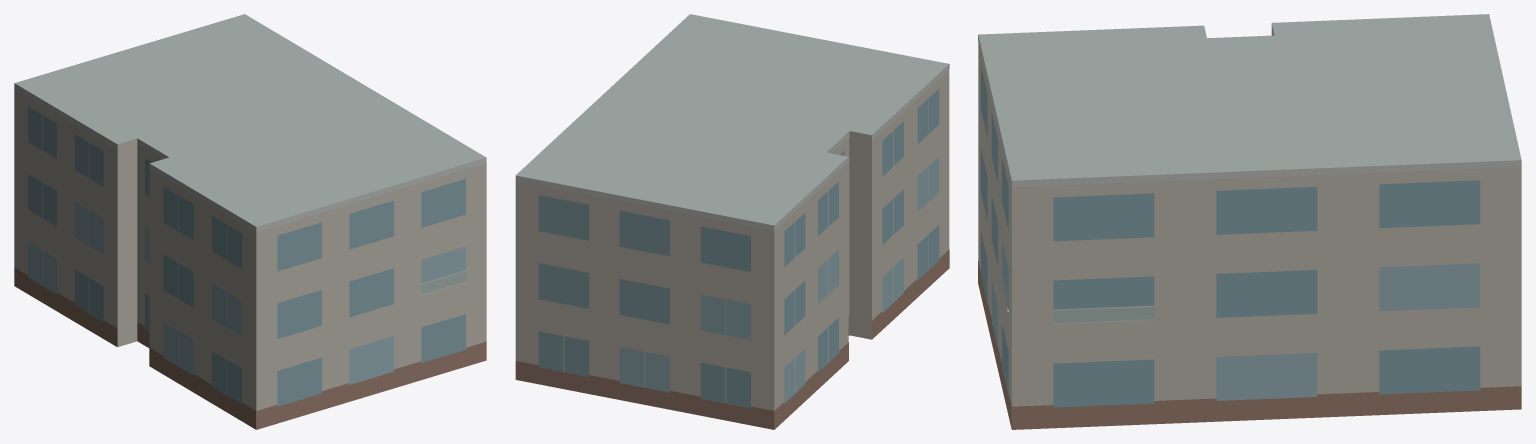
The model's file is survey-upis-33039797.glb.
3 renders of one model, left to right at view 1: azimuth 30°, elevation 25°; view 2: azimuth 150°, elevation 25°; view 3: azimuth 270°, elevation 25°, orthographic. The views are drawn at different scales.
Parts seen in each view (by area): view 1: survey-upis-33039797.tmp; view 2: survey-upis-33039797.tmp; view 3: survey-upis-33039797.tmp.
Part boxes in pixels (x1,y1,x2,y2): survey-upis-33039797.tmp: (14, 14, 486, 429); survey-upis-33039797.tmp: (515, 14, 949, 429); survey-upis-33039797.tmp: (978, 14, 1521, 429).
Bounding box in the file's own units: 13.13 × 9.15 × 18.09.
